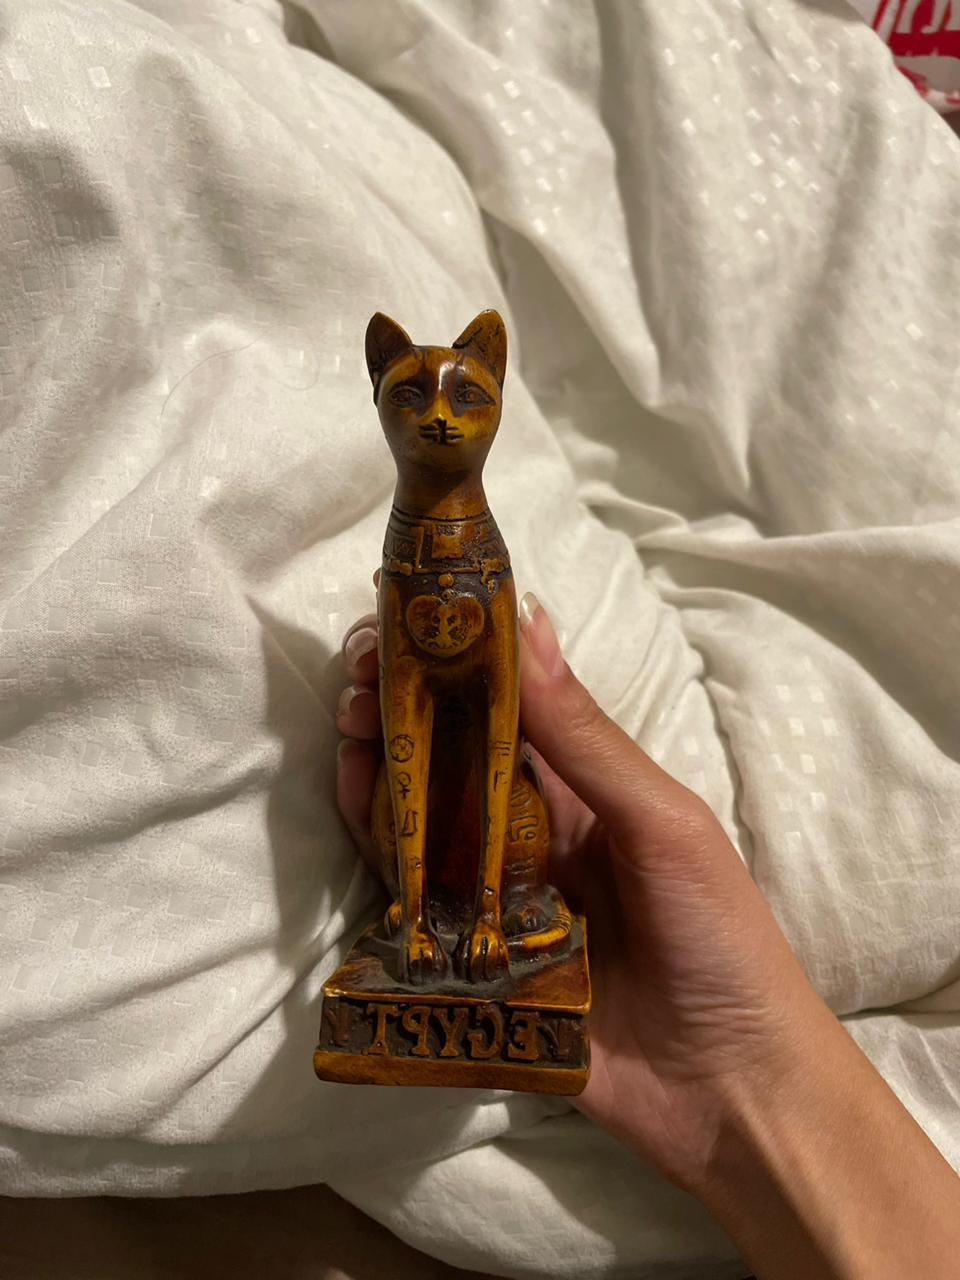Past: (310, 301, 598, 1091)
